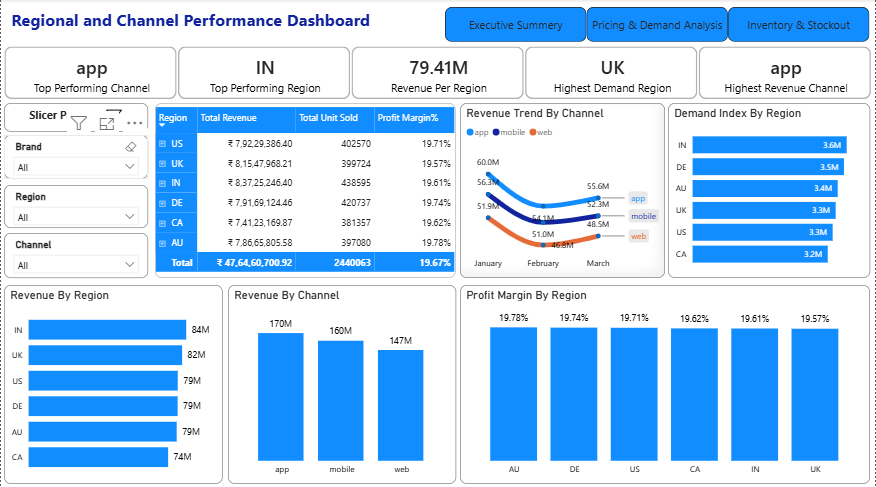

Layout of this report page (visuals, bound fields, positions):
{"tool":"powerbi","page":{"name":"Regional & channel Performance","canvas":[1280,720],"ordinal":4},"visuals":[{"type":"pageNavigator","box":[649.8,11.7,622,51.2],"z":0},{"type":"textbox","box":[0,0,629.3,62.9],"z":1000},{"type":"cardVisual","fields":{"Data":["retail_pricing_demand_100k.Top Performing Channel","retail_pricing_demand_100k.Top Performing Region","retail_pricing_demand_100k.Revenue Per Region","retail_pricing_demand_100k.Highest Demand Region","retail_pricing_demand_100k.Revenue Per Channel"]},"box":[0,64.4,1280,87.8],"z":2000},{"type":"clusteredBarChart","title":"Revenue By  Region","fields":{"Y":["Sum(retail_pricing_demand_100k.revenue)"],"Category":["retail_pricing_demand_100k.region"]},"box":[4.4,418.5,320.5,291.2],"z":3000},{"type":"textbox","box":[4.4,152.2,210.7,42.4],"z":4000},{"type":"image","box":[142,161,46.8,23.4],"z":5000},{"type":"slicer","fields":{"Values":["retail_pricing_demand_100k.brand"]},"box":[4.4,199,210.7,64.4],"z":6000},{"type":"slicer","fields":{"Values":["retail_pricing_demand_100k.region"]},"box":[4.4,272.2,210.7,62.9],"z":7000},{"type":"slicer","fields":{"Values":["retail_pricing_demand_100k.channel"]},"box":[4.4,342.4,210.7,65.9],"z":8000},{"type":"columnChart","title":"Revenue By  Channel","fields":{"Category":["retail_pricing_demand_100k.channel"],"Y":["Sum(retail_pricing_demand_100k.revenue)"]},"box":[332.2,418.5,333.7,291.2],"z":9000},{"type":"columnChart","title":"Profit Margin  By  Region","fields":{"Y":["retail_pricing_demand_100k.profit_margin%"],"Category":["retail_pricing_demand_100k.region"]},"box":[671.7,418.5,600,291.2],"z":10000},{"type":"clusteredBarChart","title":"Demand Index By  Region","fields":{"Category":["retail_pricing_demand_100k.region"],"Y":["Sum(retail_pricing_demand_100k.demand_index)"]},"box":[976.1,152.2,295.6,256.1],"z":11000},{"type":"lineChart","title":"Revenue Trend By Channel","fields":{"Y":["Sum(retail_pricing_demand_100k.revenue)"],"Category":["Custom calendar.Custom date.Variation.Date Hierarchy.Month"],"Series":["retail_pricing_demand_100k.channel"]},"box":[671.7,152.2,300,256.1],"z":12000},{"type":"pivotTable","title":"Demand Index By  Region","fields":{"Rows":["retail_pricing_demand_100k.region","retail_pricing_demand_100k.channel"],"Values":["retail_pricing_demand_100k.Total Revenue","retail_pricing_demand_100k.Total_unit_sold","retail_pricing_demand_100k.profit_margin%"]},"box":[225.4,152.2,440.5,256.1],"z":13000}]}

Visuals, with their boxes in screenshot pixels (x1, y1, x2, y2), scaled from the page's 1280x720 canvas onto the 876x487 screenshot:
pageNavigator: Rect(445, 8, 870, 43)
textbox: Rect(0, 0, 431, 43)
cardVisual - retail_pricing_demand_100k.Top Performing Channel x retail_pricing_demand_100k.Top Performing Region: Rect(0, 44, 875, 103)
"Revenue By  Region" clusteredBarChart: Rect(3, 283, 222, 480)
textbox: Rect(3, 103, 147, 132)
image: Rect(97, 109, 129, 125)
slicer - retail_pricing_demand_100k.brand: Rect(3, 135, 147, 178)
slicer - retail_pricing_demand_100k.region: Rect(3, 184, 147, 227)
slicer - retail_pricing_demand_100k.channel: Rect(3, 232, 147, 276)
"Revenue By  Channel" columnChart: Rect(227, 283, 456, 480)
"Profit Margin  By  Region" columnChart: Rect(460, 283, 870, 480)
"Demand Index By  Region" clusteredBarChart: Rect(668, 103, 870, 276)
"Revenue Trend By Channel" lineChart: Rect(460, 103, 665, 276)
"Demand Index By  Region" pivotTable: Rect(154, 103, 456, 276)
